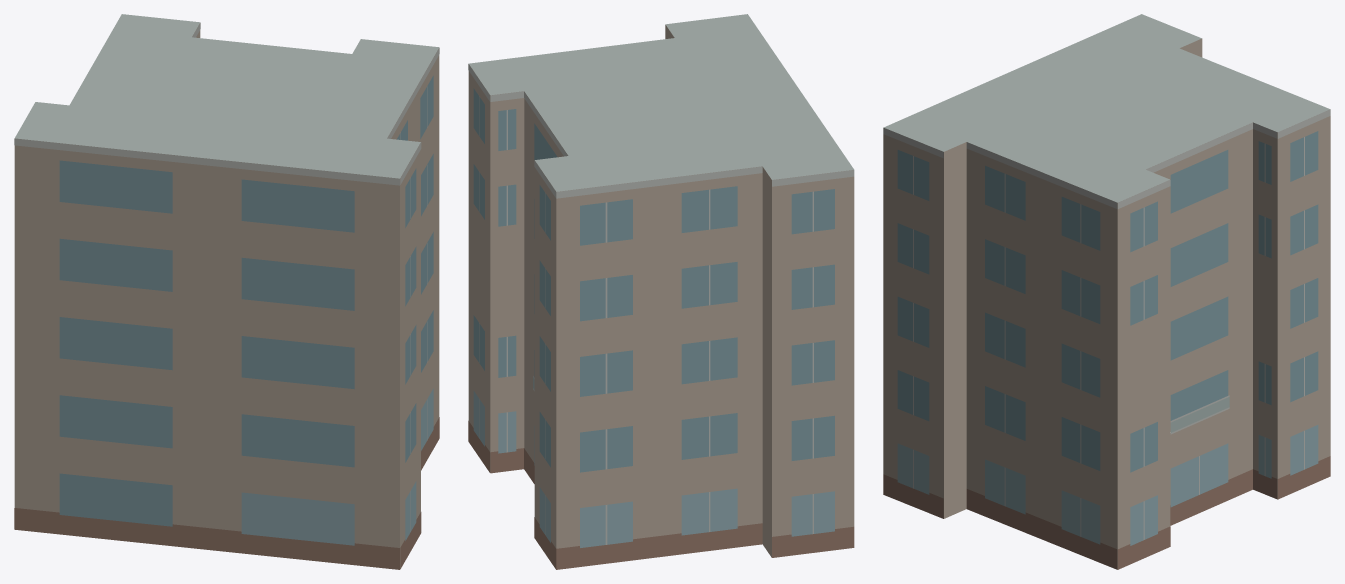
The model's file is survey-upis-32637871.glb.
3 views of the same model, side by side, from view 1: azimuth 30°, elevation 25°; view 2: azimuth 150°, elevation 25°; view 3: azimuth 270°, elevation 25° (orthographic). The views are drawn at different scales.
Parts seen in each view (by area): view 1: survey-upis-32637871.tmp; view 2: survey-upis-32637871.tmp; view 3: survey-upis-32637871.tmp.
Boxes of the visible parts, x1,y1,x2,y2 form: survey-upis-32637871.tmp: (14,14,439,569); survey-upis-32637871.tmp: (468,14,854,569); survey-upis-32637871.tmp: (883,14,1330,569).
Size of the model in its own units: 15 by 13.6 by 15.02.
